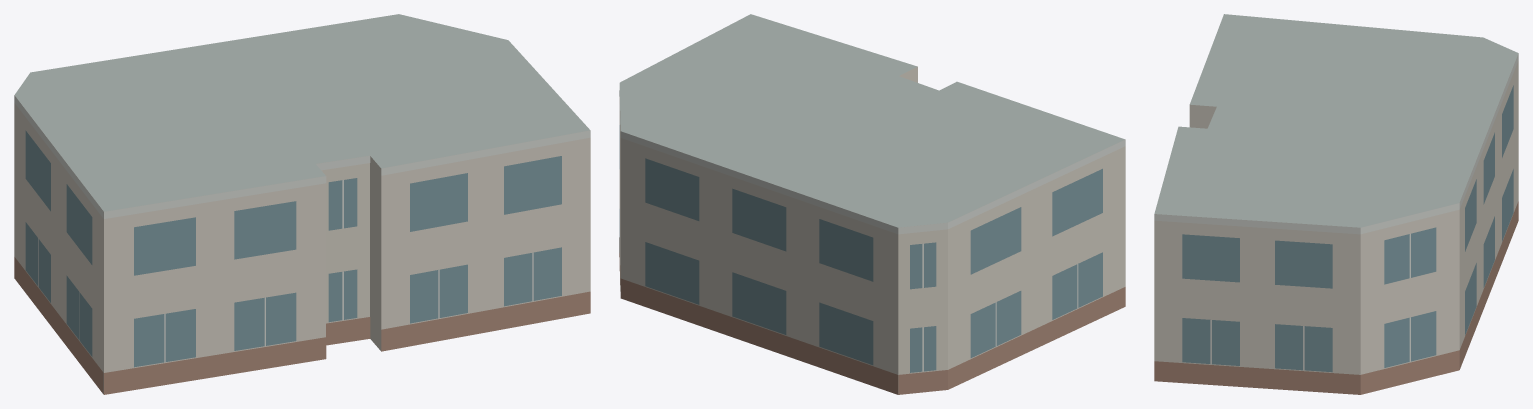
Rendered from survey-upis-32820752.glb.
3 renders of one model, left to right at view 1: azimuth 30°, elevation 25°; view 2: azimuth 150°, elevation 25°; view 3: azimuth 270°, elevation 25°, orthographic. The views are drawn at different scales.
Parts seen in each view (by area): view 1: survey-upis-32820752.tmp; view 2: survey-upis-32820752.tmp; view 3: survey-upis-32820752.tmp.
Part boxes in pixels (x1,y1,x2,y2): survey-upis-32820752.tmp: (14, 14, 590, 394); survey-upis-32820752.tmp: (619, 14, 1125, 394); survey-upis-32820752.tmp: (1154, 14, 1518, 394).
Bounding box in the file's own units: 16.73 × 6.1 × 12.06.
